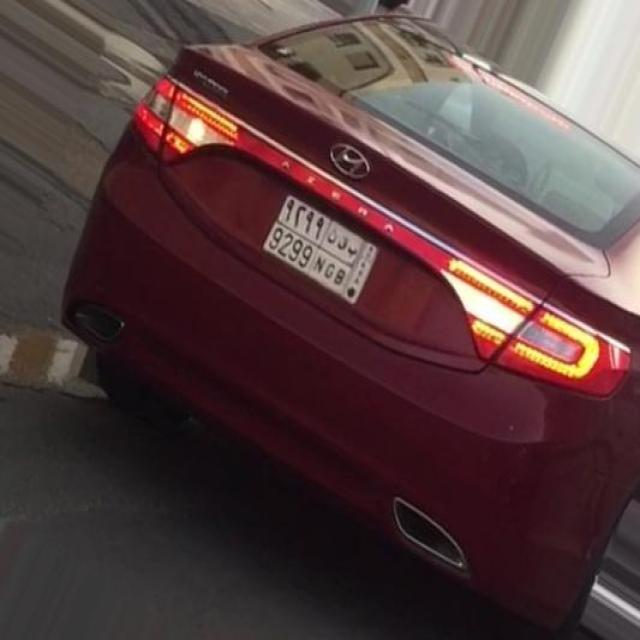Car-plate: (250, 181, 385, 313)
